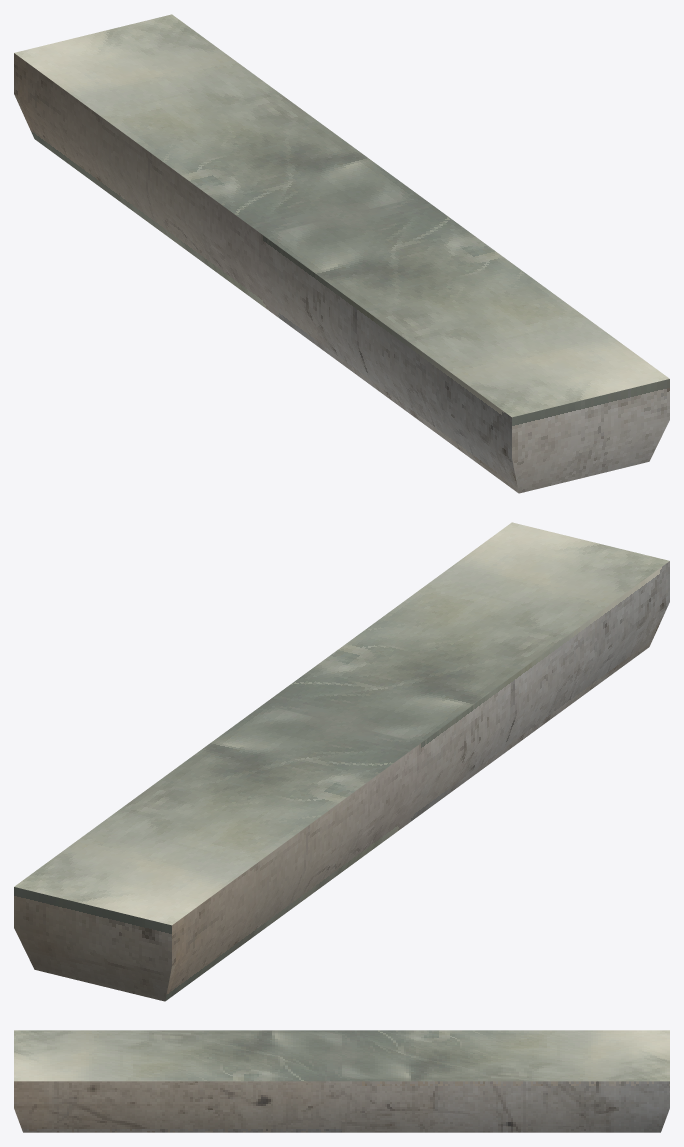
Rendered from ceiling_lights.glb.
3 views of the same model, one above another, from view 1: azimuth 30°, elevation 25°; view 2: azimuth 150°, elevation 25°; view 3: azimuth 270°, elevation 25° (orthographic). The views are drawn at different scales.
Parts seen in each view (by area): view 1: light; view 2: light; view 3: light.
Part boxes in pixels (left/top/right/bottom): light: left=14, top=14, right=669, bottom=493; light: left=14, top=522, right=669, bottom=1001; light: left=14, top=1030, right=669, bottom=1132.
Size of the model in its own units: 0.3731 by 0.1908 by 2.04.
1 material, 1 textured.
